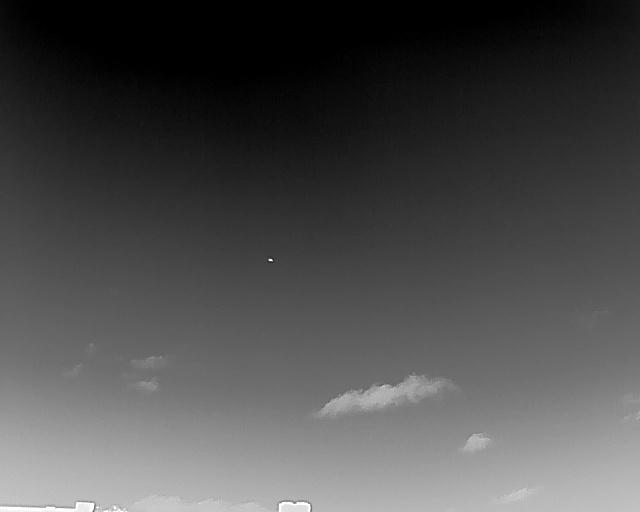fpv-drone: (267, 258, 273, 262)
